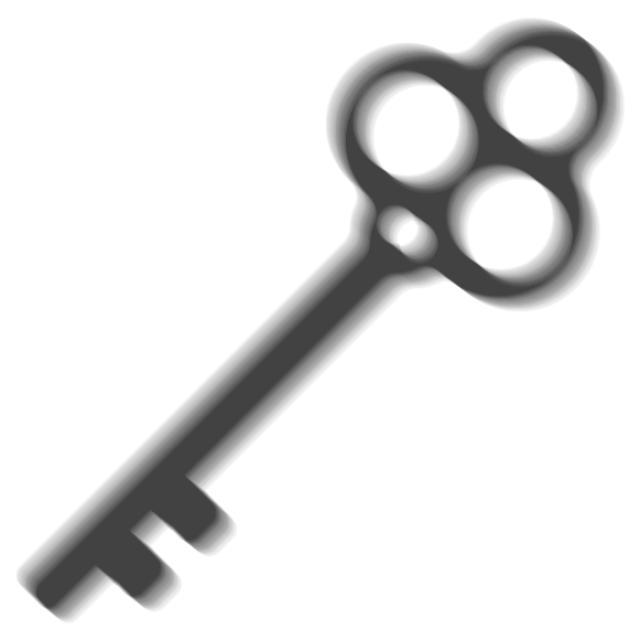key: (16, 7, 634, 637)
